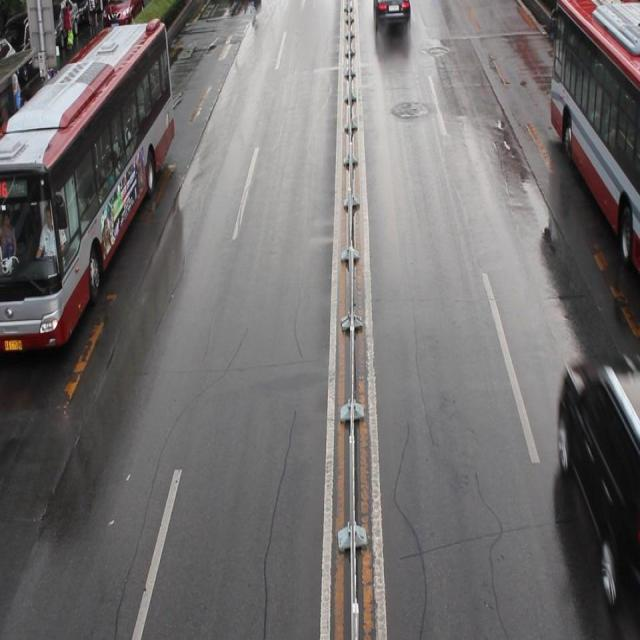car: (558, 360, 640, 614), (103, 1, 143, 30), (374, 1, 409, 26)
van: (1, 16, 172, 353), (550, 1, 640, 261)
